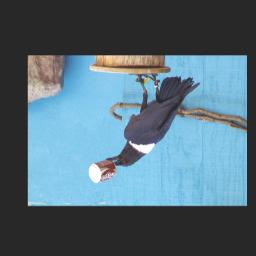Crow: (104, 72, 201, 168)
